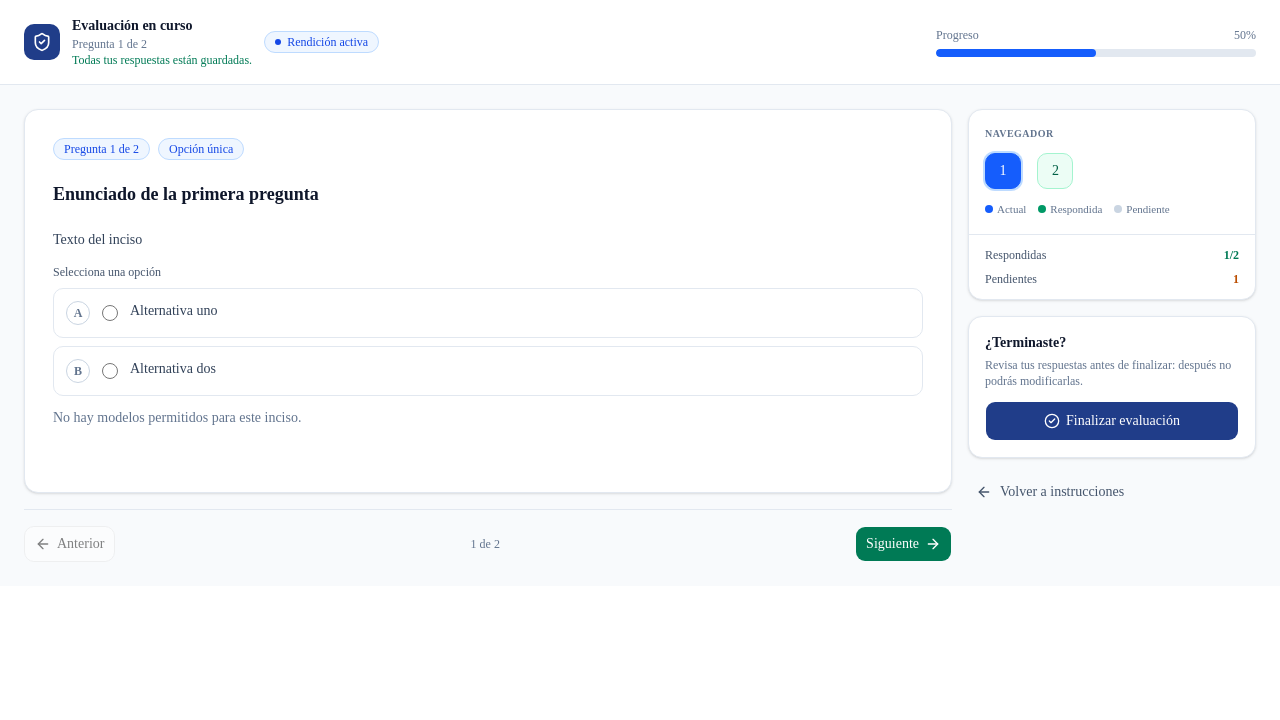
Test: RendicionEvaluacion › avisa antes de cerrar la pestaña mientras hay un guardado en curso
Click the radio button labelled "Alternativa uno" at x=110, y=313, box [102,305,118,321]
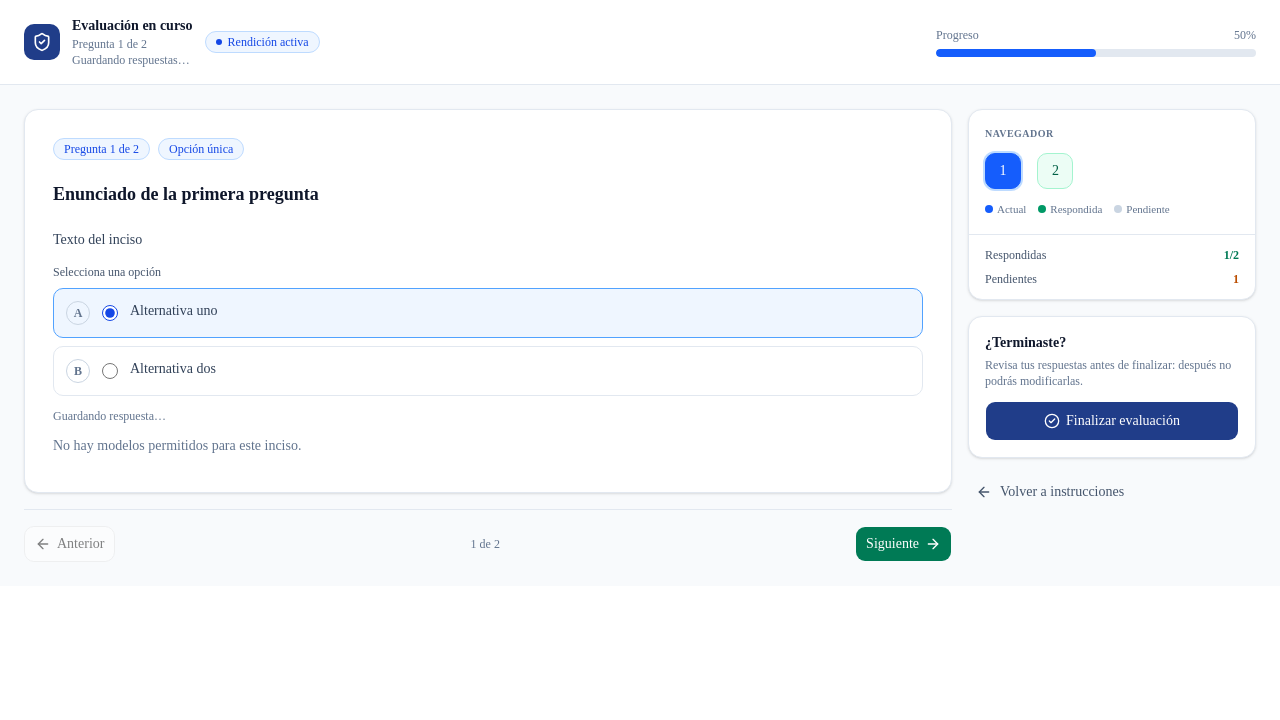
Check: the text "Guardando respuestas…" is shown, box [72,52,193,68]
